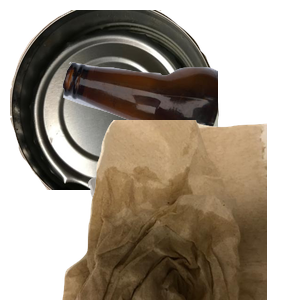glass: (60, 59, 300, 217)
metal: (10, 10, 221, 190)
plastic: (85, 163, 235, 300)
trash: (60, 120, 300, 300)
